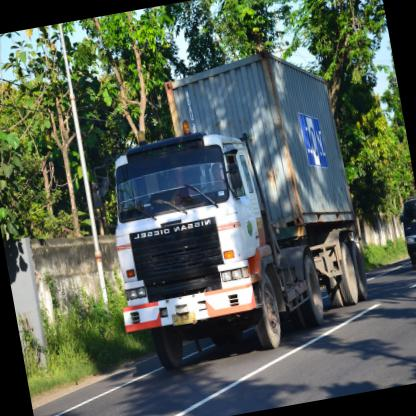truck: (93, 122, 288, 380)
